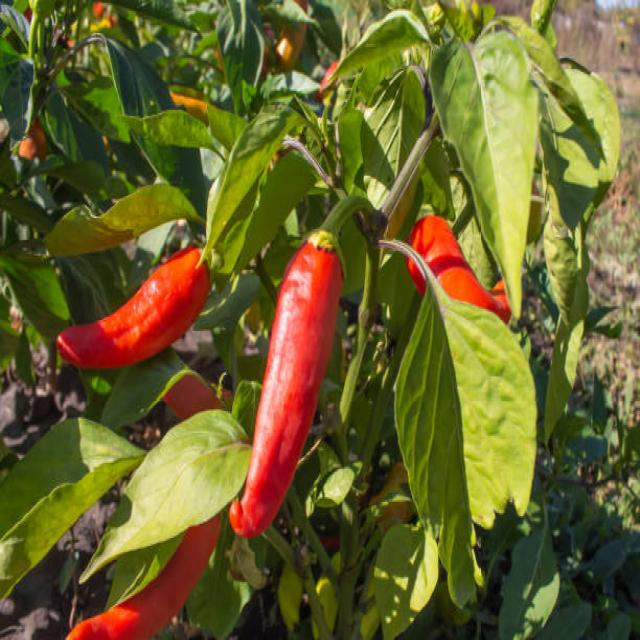Ripe: (230, 235, 342, 536), (67, 516, 219, 638), (56, 246, 209, 367), (409, 215, 509, 322)
